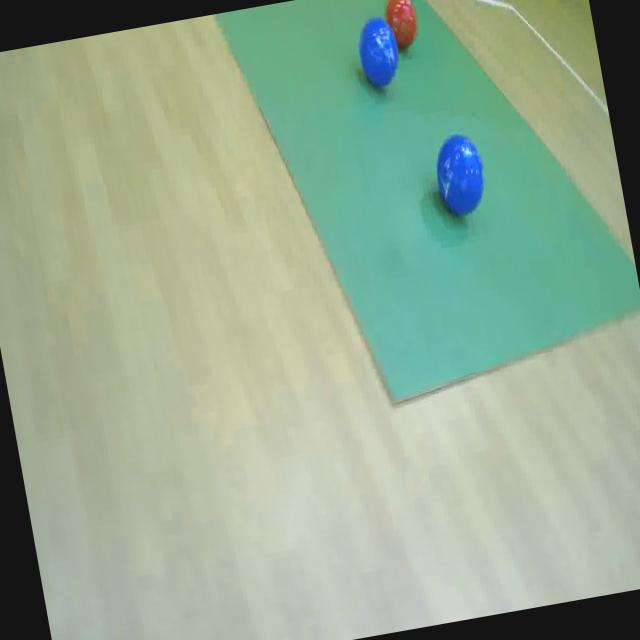blue_ball: (427, 127, 491, 220), (352, 10, 404, 93)
red_ball: (378, 0, 427, 58)
